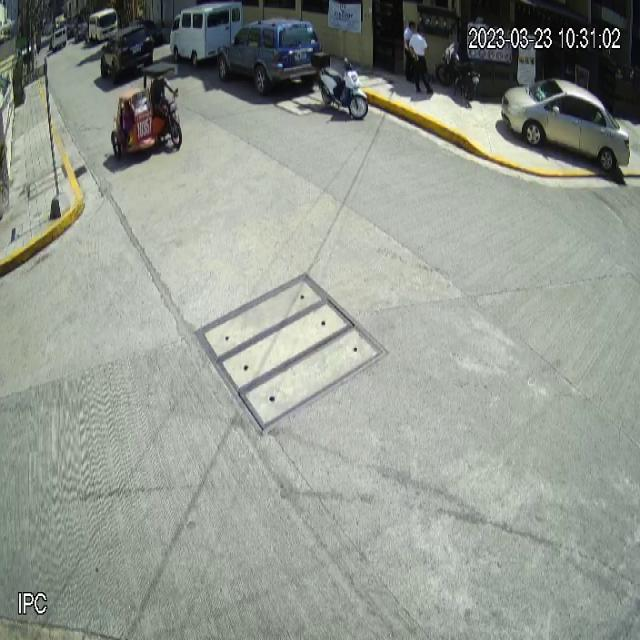Car: (501, 77, 632, 176), (215, 14, 322, 97), (100, 24, 154, 84)
Motorcycle: (311, 51, 369, 120)
Tricycle: (110, 61, 182, 160)
Van: (169, 0, 243, 68)
